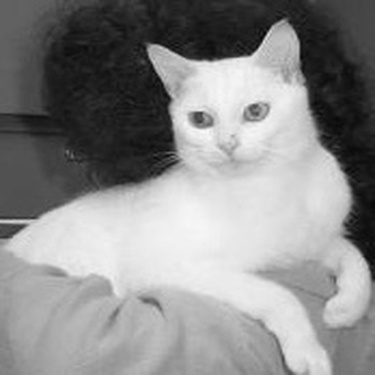cat: (9, 10, 373, 371)
